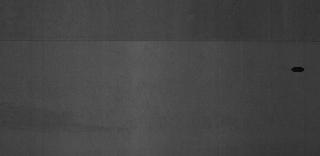punching hole: (288, 62, 308, 74)
welding line: (3, 37, 319, 50)
